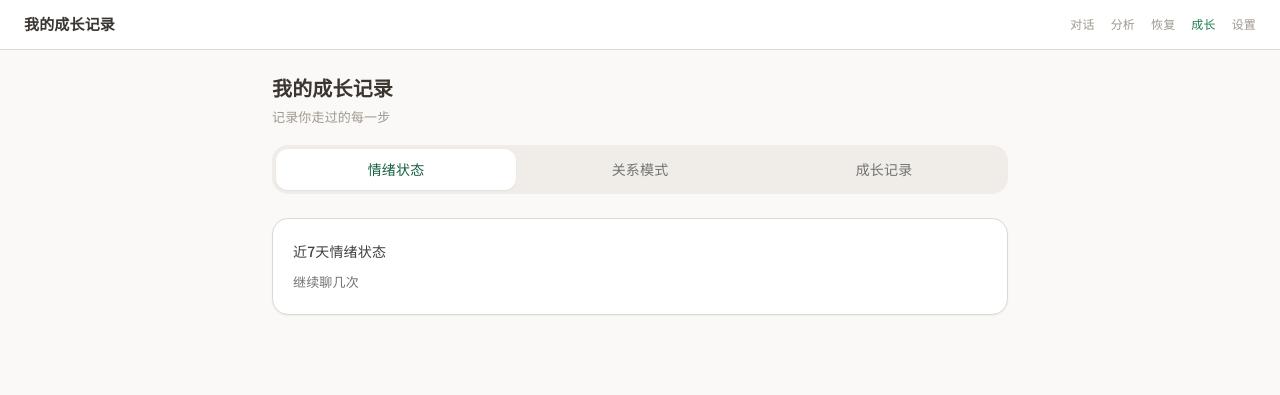
<GrowthPage /> › 三类信号都为空时显示提示文案
This screenshot has width=1280, height=395.
Click the button "成长记录". click: (884, 169)
box: [764,149,1004,190]
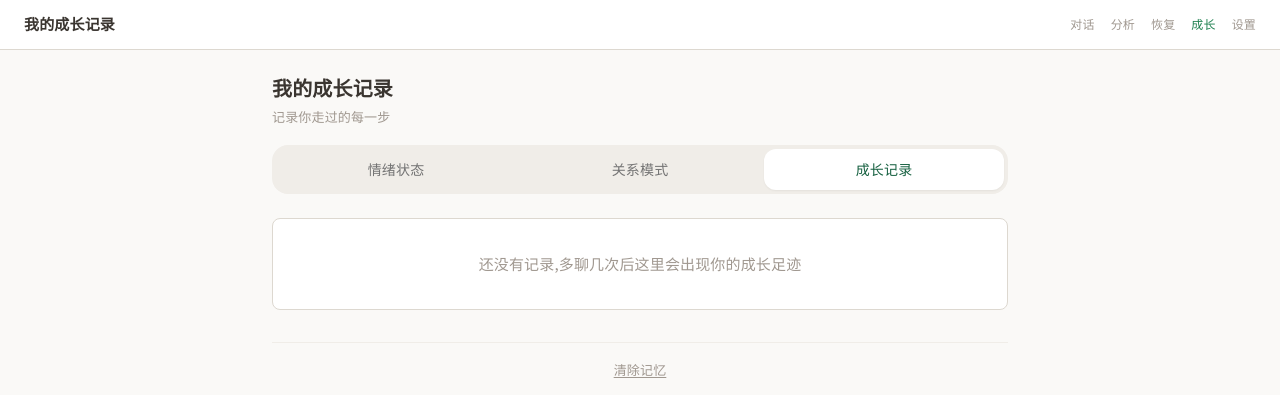
Result: the text "还没有记录,多聊几次后这里会出现你的成长足迹" is shown at [272,218,1008,310]
